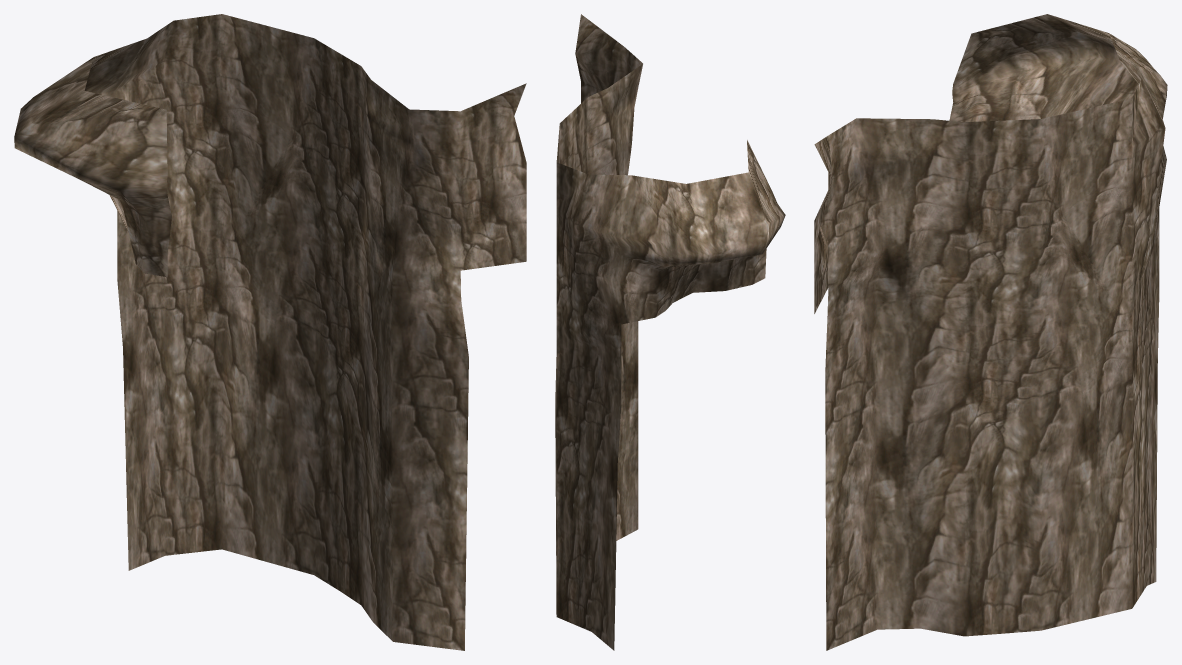
The model's file is OVERHILL_A_01_LINE123.fbx.
3 renders of one model, left to right at view 1: azimuth 30°, elevation 25°; view 2: azimuth 150°, elevation 25°; view 3: azimuth 270°, elevation 25°, orthographic. The views are drawn at different scales.
Visible parts, largest first — view 1: OVERHILL_A_01_LINE123; view 2: OVERHILL_A_01_LINE123; view 3: OVERHILL_A_01_LINE123.
Boxes of the visible parts, bbox=[...] form: OVERHILL_A_01_LINE123: bbox=[14, 14, 526, 650]; OVERHILL_A_01_LINE123: bbox=[555, 14, 785, 650]; OVERHILL_A_01_LINE123: bbox=[814, 14, 1167, 650].
Bounding box in the file's own units: 155138 × 229530 × 136267.
Materials: 1 (1 with a texture image).
